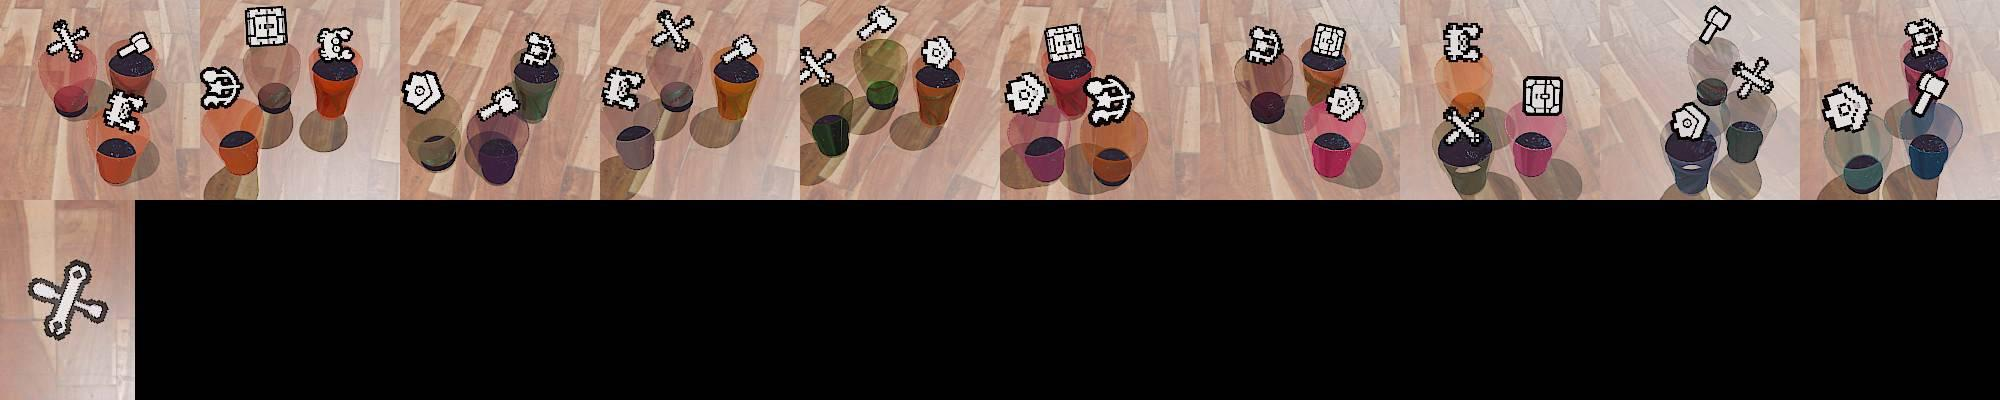icon: (24, 258, 110, 340), (1084, 73, 1135, 127), (1819, 82, 1872, 133), (1004, 71, 1049, 117), (601, 66, 645, 113), (199, 65, 243, 112), (101, 87, 146, 132), (1669, 98, 1714, 142), (401, 69, 444, 115), (652, 9, 696, 53), (243, 5, 288, 48), (1043, 21, 1086, 65), (1441, 20, 1484, 64), (47, 19, 91, 62), (1732, 57, 1774, 101), (1522, 75, 1564, 117), (1442, 104, 1484, 146), (1242, 24, 1285, 65), (1911, 69, 1950, 114), (475, 84, 521, 122), (798, 45, 837, 89), (1323, 82, 1365, 122), (857, 5, 899, 42), (1903, 18, 1942, 57), (1309, 21, 1347, 61), (718, 33, 759, 69), (316, 26, 354, 64), (1698, 5, 1732, 47), (521, 31, 558, 68), (920, 35, 957, 71), (114, 31, 153, 62)
